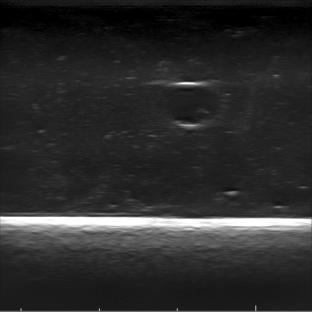vessel: (160, 79, 221, 131)
